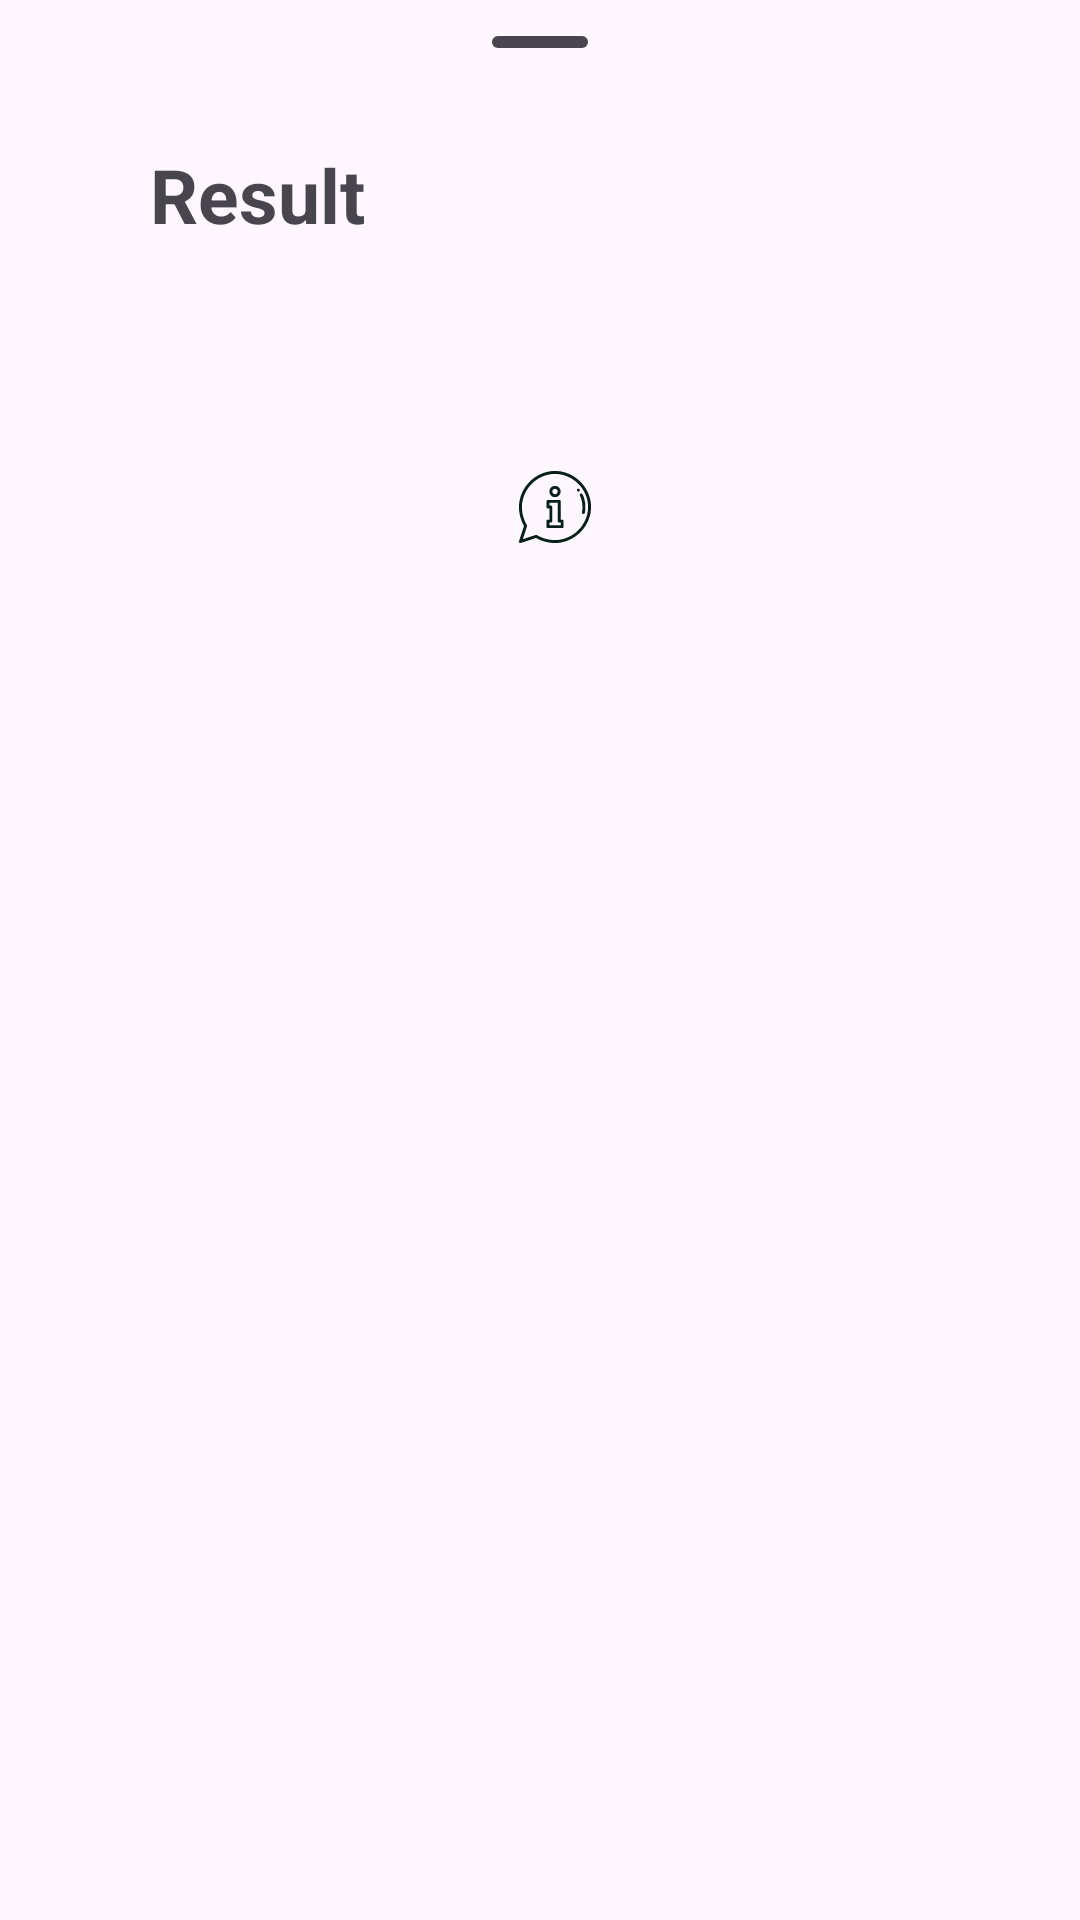

Icons on this 1080×1920 Android screen, each with the point to tap as [x,y]:
Info Penyakit: [555,507]
